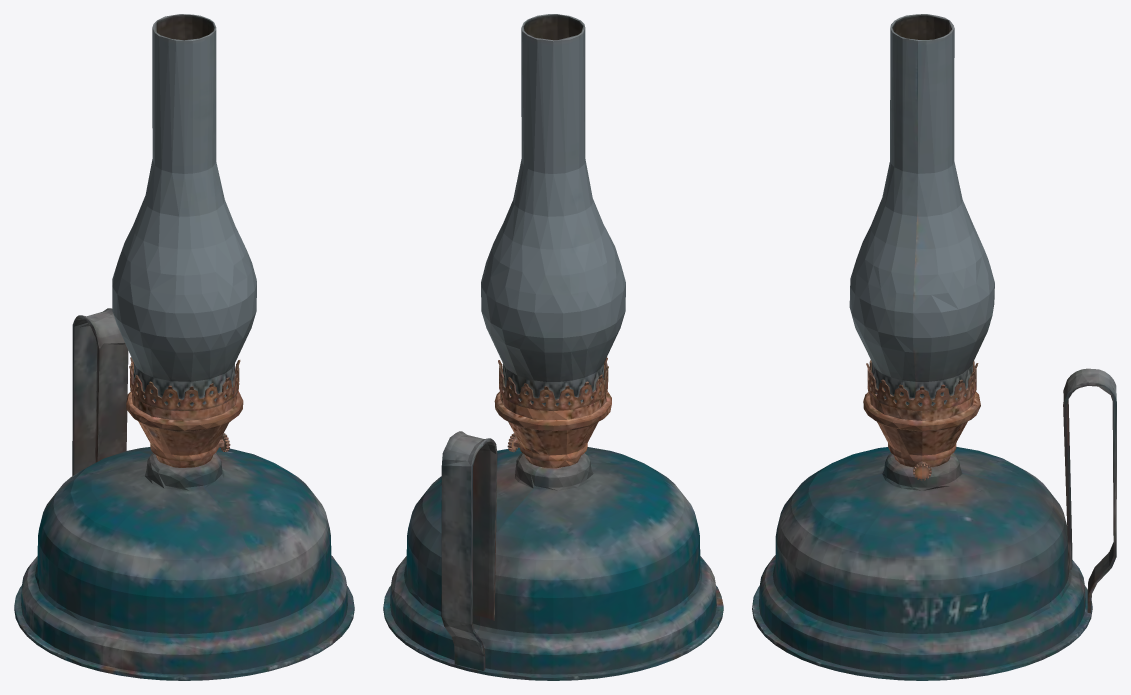
File: lampiao.glb
3 renders of one model, left to right at view 1: azimuth 30°, elevation 25°; view 2: azimuth 150°, elevation 25°; view 3: azimuth 270°, elevation 25°, orthographic.
Bounding box in the file's own units: 1.59 × 3 × 1.7.
1 material, 1 textured.
